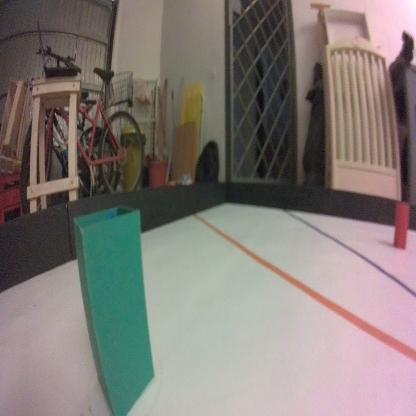green: (70, 203, 156, 416)
red: (391, 201, 410, 252)
